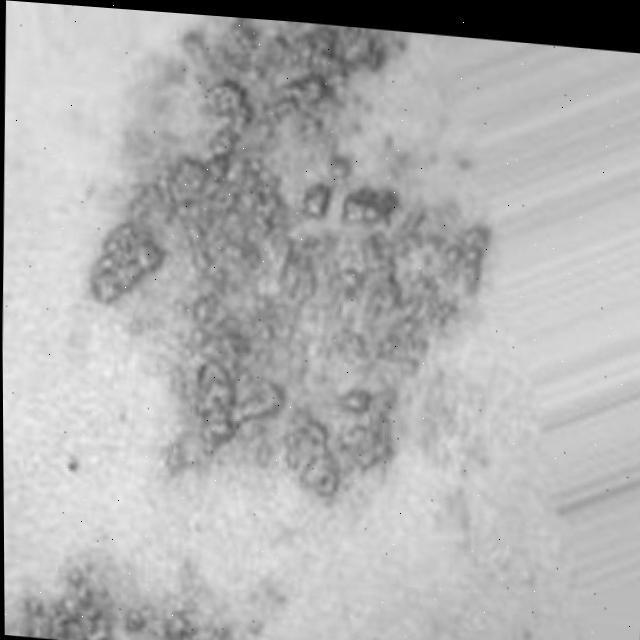Shingles: (85, 6, 497, 513), (23, 562, 261, 640)
